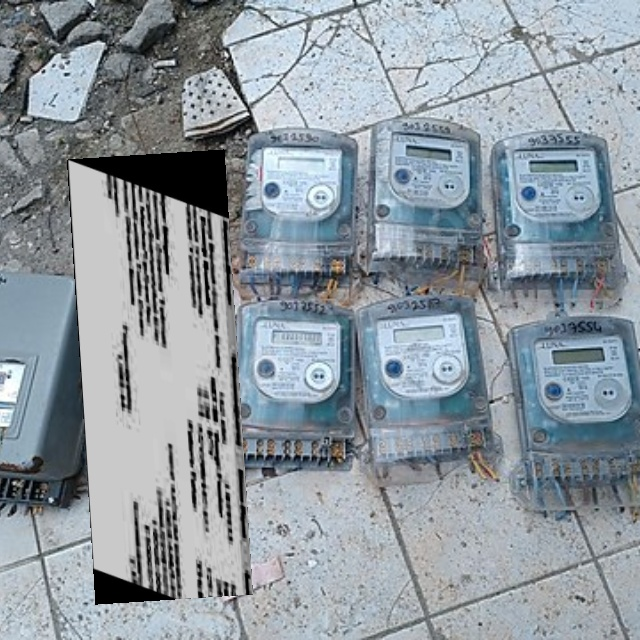electricity-bill: (67, 148, 253, 604)
